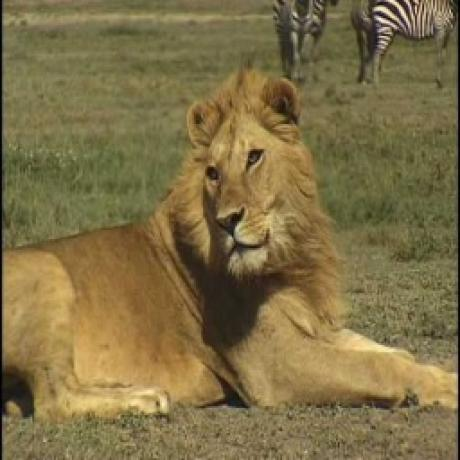Lion: (0, 62, 460, 418)
